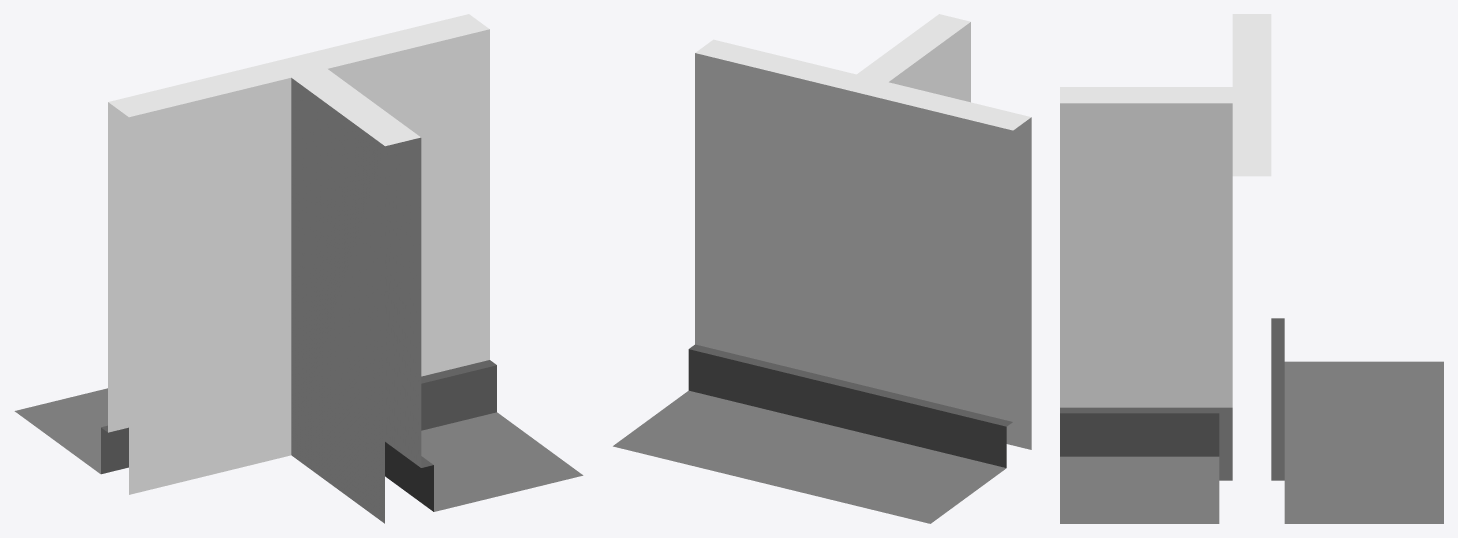
File: I_Wall_T_Shape_Elevator_L.fbx
The picture shows the model from 3 angles, left to right: view 1: azimuth 30°, elevation 25°; view 2: azimuth 150°, elevation 25°; view 3: azimuth 270°, elevation 25°; orthographic projection. The views are drawn at different scales.
Parts seen in each view (by area): view 1: I_Wall_T_Shape_Elevator_L; view 2: I_Wall_T_Shape_Elevator_L; view 3: I_Wall_T_Shape_Elevator_L.
Part boxes in pixels (x1,y1,x2,y2): I_Wall_T_Shape_Elevator_L: (14,14,583,523); I_Wall_T_Shape_Elevator_L: (613,14,1031,523); I_Wall_T_Shape_Elevator_L: (1060,14,1443,523).
Size of the model in its own units: 200 by 200 by 200.
